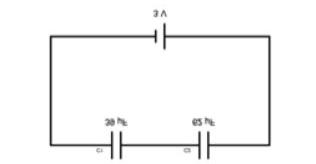Capacitor: (186, 130, 225, 157)
